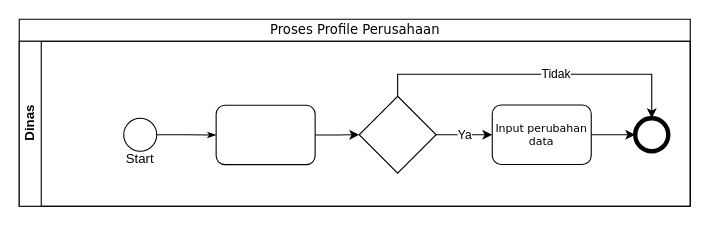
Image size: 710x226. Some labels were removed from this diagram. Here are the shapes that lost their labels. From the top down, the box of each, then its label:
(215, 104, 315, 165): Tamipan edit profile perusahaan
(358, 95, 436, 173): Apakah ada perubahan?
